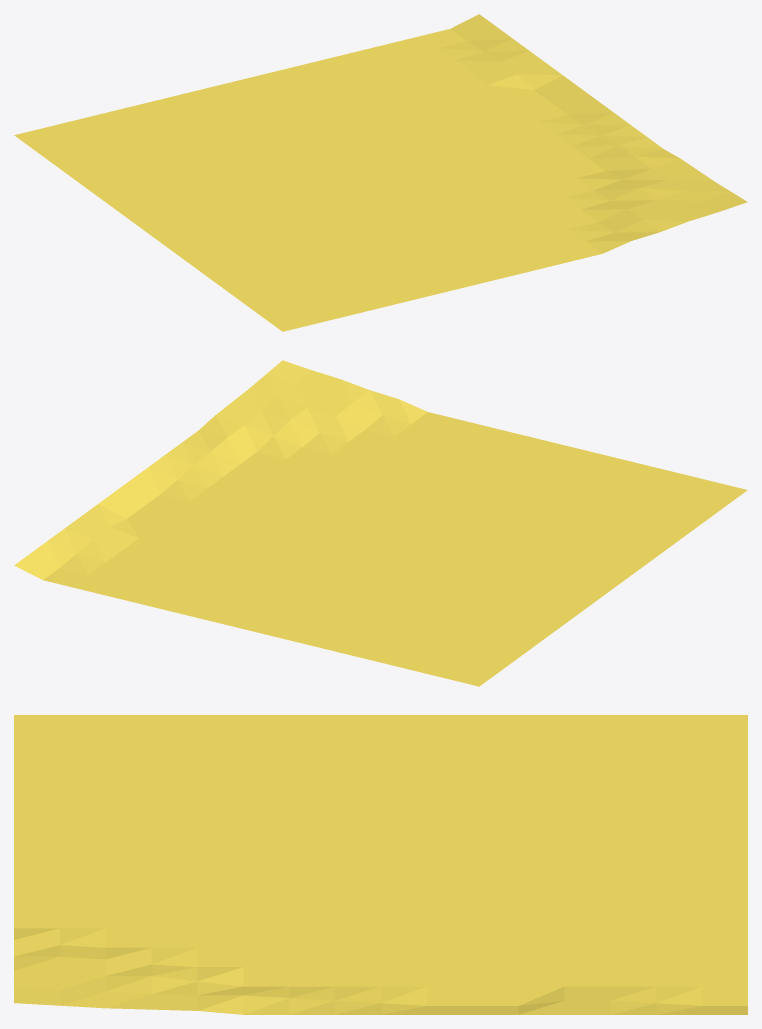
File: natura_world_210.gltf
3 views of the same model, one above another, from view 1: azimuth 30°, elevation 25°; view 2: azimuth 150°, elevation 25°; view 3: azimuth 270°, elevation 25° (orthographic). The views are drawn at different scales.
Parts seen in each view (by area): view 1: natura_world.210; view 2: natura_world.210; view 3: natura_world.210.
Boxes of the visible parts, box(x1,y1,x2,y2) form: natura_world.210: box(14, 14, 747, 331); natura_world.210: box(14, 360, 747, 686); natura_world.210: box(14, 715, 747, 1014).
Size of the model in its own units: 0.125 by 0.00417 by 0.125.
